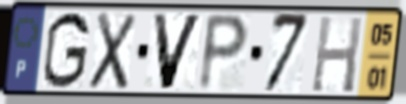7: (260, 10, 311, 97)
G: (40, 10, 93, 91)
H: (308, 13, 365, 96)
P: (195, 11, 252, 94)
V: (150, 11, 206, 93)
X: (86, 10, 139, 93)
